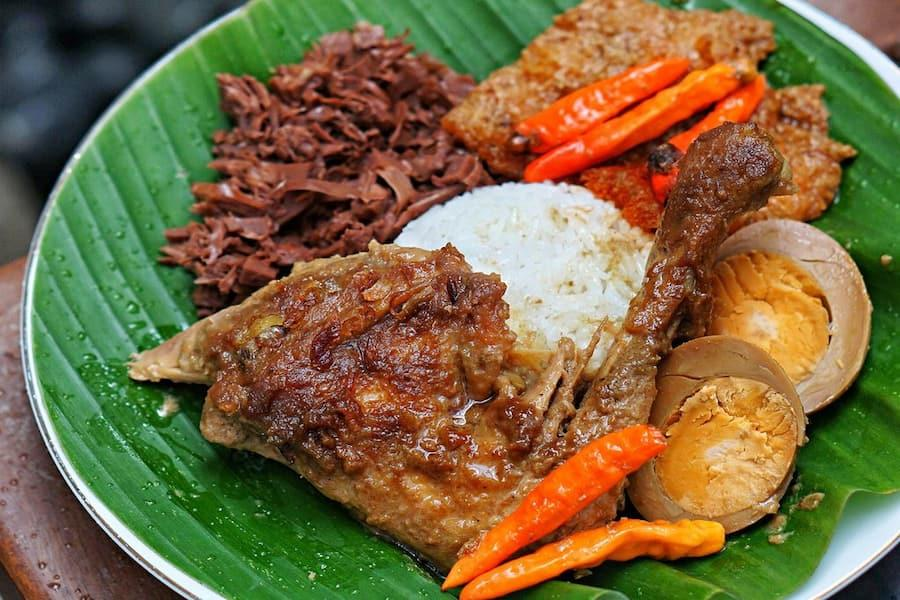gudeg: (128, 1, 871, 600)
